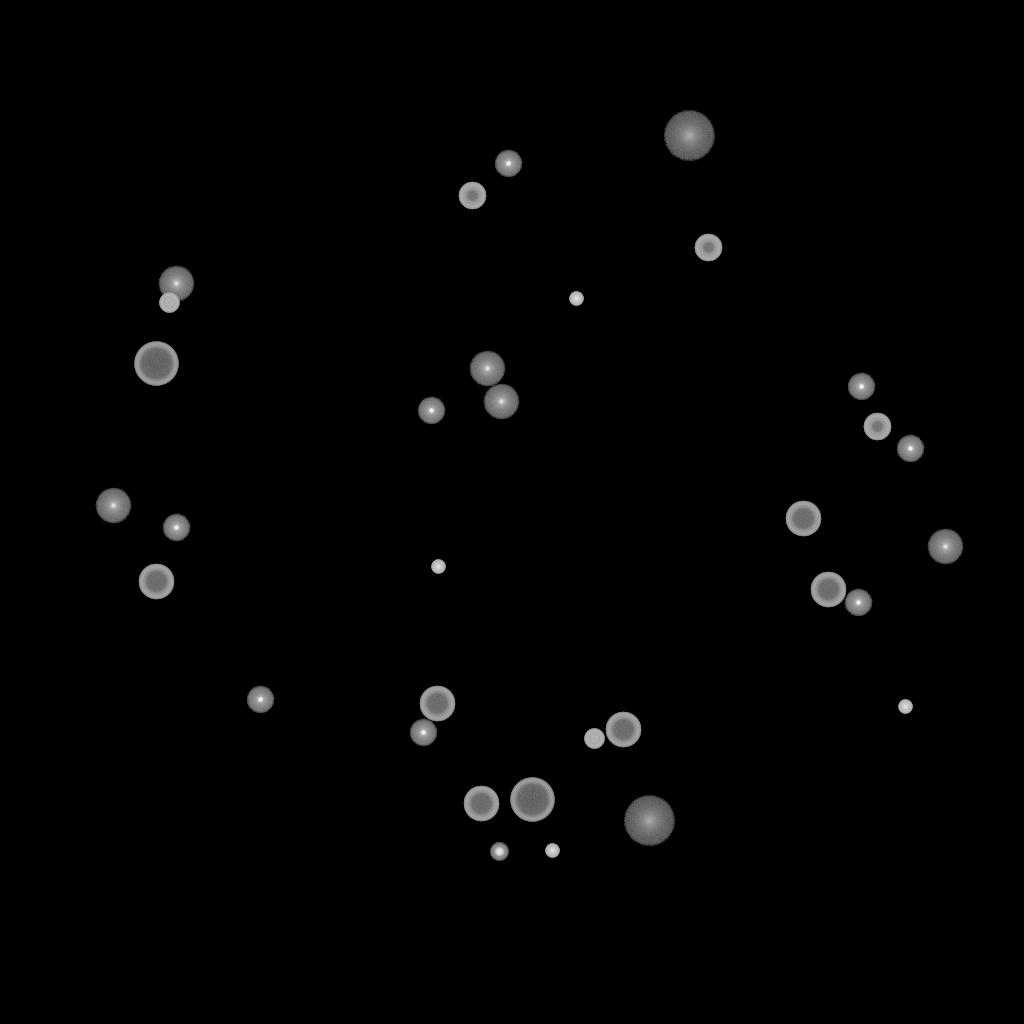depth:-10: (162, 514, 190, 542), (896, 435, 924, 463), (409, 719, 437, 747), (844, 589, 872, 617), (417, 397, 445, 425), (494, 150, 522, 178), (246, 686, 274, 714), (847, 373, 875, 401)
depth:-20: (490, 843, 508, 861)
depth:-30: (431, 560, 445, 574), (569, 292, 583, 306), (898, 700, 912, 714), (545, 844, 559, 858)
depth:-40: (584, 729, 604, 749), (159, 293, 179, 313)
depth:-50: (458, 182, 486, 210), (694, 234, 722, 262), (863, 413, 891, 441)
depth:-60: (138, 564, 174, 600), (605, 712, 641, 748), (419, 686, 455, 722), (463, 786, 499, 822), (810, 572, 846, 608), (785, 501, 821, 537)
depth:-70: (510, 778, 554, 822), (134, 342, 178, 386)
depth:0: (469, 351, 505, 387), (158, 266, 194, 302), (95, 488, 131, 524), (483, 384, 519, 420), (927, 529, 963, 565)
depth:20: (663, 111, 715, 161), (623, 796, 675, 846)
